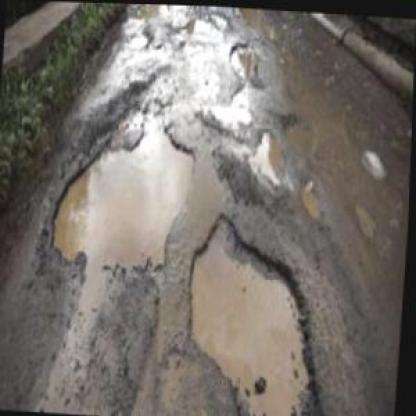pothole: (181, 204, 346, 414), (51, 107, 200, 276), (251, 122, 294, 186), (281, 107, 319, 151), (228, 33, 260, 83), (301, 176, 329, 221), (180, 10, 221, 32), (128, 21, 152, 48)
